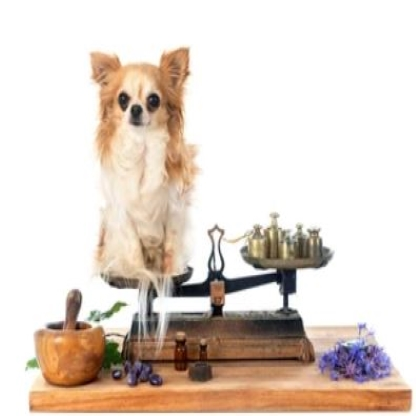chihuahua: (87, 40, 199, 282)
